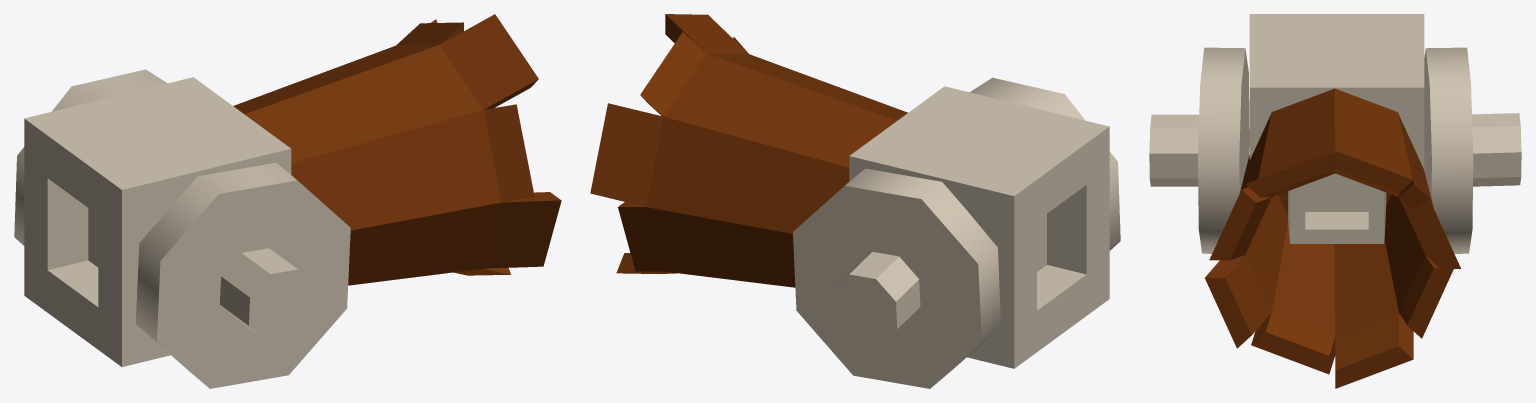
The model's file is Canon_Hybride.FBX.
3 renders of one model, left to right at view 1: azimuth 30°, elevation 25°; view 2: azimuth 150°, elevation 25°; view 3: azimuth 270°, elevation 25°, orthographic. The views are drawn at different scales.
Parts seen in each view (by area): view 1: Cylinder111, Box476, Cylinder112, Cylinder113; view 2: Cylinder111, Box476, Cylinder113, Cylinder112; view 3: Cylinder111, Box476, Cylinder113, Cylinder112.
Boxes of the visible parts, x1=… form: Cylinder111: x1=233, y1=14, x2=561, y2=285; Box476: x1=24, y1=77, x2=291, y2=366; Cylinder112: x1=135, y1=162, x2=350, y2=388; Cylinder113: x1=14, y1=69, x2=167, y2=245; Cylinder111: x1=590, y1=14, x2=907, y2=287; Box476: x1=849, y1=86, x2=1109, y2=368; Cylinder113: x1=793, y1=168, x2=1000, y2=388; Cylinder112: x1=970, y1=77, x2=1120, y2=250; Cylinder111: x1=1205, y1=88, x2=1460, y2=388; Box476: x1=1249, y1=14, x2=1424, y2=243; Cylinder113: x1=1424, y1=47, x2=1521, y2=253; Cylinder112: x1=1149, y1=47, x2=1249, y2=253.
Bounding box in the file's own units: 241 × 146 × 210.
